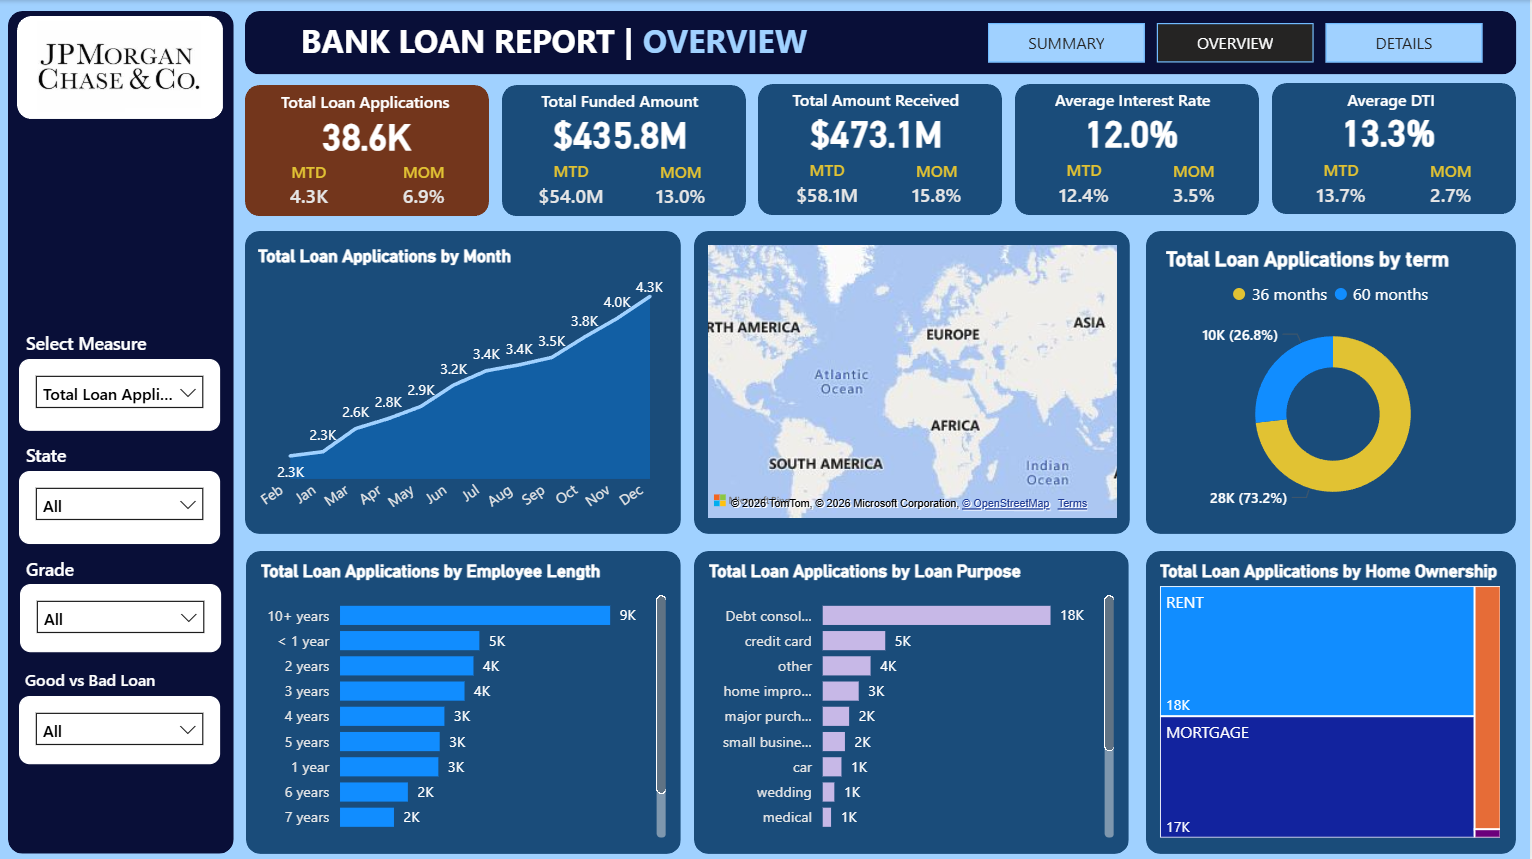

Layout of this report page (visuals, bound fields, positions):
{"tool":"powerbi","page":{"name":"OVERVIEW","canvas":[1280,720],"ordinal":1},"visuals":[{"type":"shape","box":[8.1,9,188.5,703.8],"z":0},{"type":"shape","box":[1063.8,69.2,203.8,109.5],"z":0,"group":"g5"},{"type":"shape","box":[635.2,69.6,203.8,109.5],"z":0,"group":"g3"},{"type":"shape","box":[849.5,69.8,203.8,109.5],"z":0,"group":"g4"},{"type":"shape","box":[420.8,70.5,203.8,109.5],"z":0,"group":"g2"},{"type":"shape","box":[206.5,70.9,203.8,109.5],"z":0,"group":"g1"},{"type":"textbox","box":[1119.6,69,87.1,34.1],"z":1000,"group":"g5"},{"type":"textbox","box":[658.6,69.1,150,34.1],"z":1000,"group":"g3"},{"type":"textbox","box":[877.7,69.1,150,34],"z":1000,"group":"g4"},{"type":"textbox","box":[444.2,70,150,34.1],"z":1000,"group":"g2"},{"type":"textbox","box":[231.6,70.9,154.4,28.7],"z":1000,"group":"g1"},{"type":"textbox","box":[18.2,365.3,55.9,31.8],"z":1000},{"type":"shape","box":[206.5,9,1062,53],"z":2000},{"type":"card","fields":{"Values":["Bank_Data.Total Amount Recieved"]},"box":[671.9,89.2,123.9,42.2],"z":2000,"group":"g3"},{"type":"card","fields":{"Values":["Bank_Data.Total Loan Applications"]},"box":[260.4,89.8,96.1,44.9],"z":2000,"group":"g1"},{"type":"card","fields":{"Values":["Bank_Data.Avg DTI"]},"box":[1105.5,89.9,110.4,38.6],"z":2000,"group":"g5"},{"type":"card","fields":{"Values":["Bank_Data.Total Funded Amount"]},"box":[457.5,90.1,123.9,42.2],"z":2000,"group":"g2"},{"type":"card","fields":{"Values":["Bank_Data.Avg interest rate"]},"box":[891.2,90.4,110.4,38.6],"z":2000,"group":"g4"},{"type":"shape","box":[16.2,13.5,172.4,86.2],"z":3000},{"type":"card","title":"MTD","fields":{"Values":["Bank_Data.MTD DTI"]},"box":[1089,132.4,65.4,46.2],"z":3000,"group":"g5"},{"type":"card","title":"MTD","fields":{"Values":["Bank_Data.MTD Total Amount Recieved"]},"box":[660.4,132.7,65.4,46.2],"z":3000,"group":"g3"},{"type":"card","title":"MTD","fields":{"Values":["Bank_Data.MTD avg interest"]},"box":[874.7,133,65.4,46.2],"z":3000,"group":"g4"},{"type":"card","title":"MTD","fields":{"Values":["Bank_Data.MTD Total Funded Amount"]},"box":[446,133.6,65.4,46.2],"z":3000,"group":"g2"},{"type":"card","title":"MTD","fields":{"Values":["Bank_Data.MTD Loan Application"]},"box":[231.6,134.6,56.6,45.8],"z":3000,"group":"g1"},{"type":"textbox","box":[243.3,9.9,442.6,52.1],"z":4000},{"type":"card","title":"MOM","fields":{"Values":["Bank_Data.MOM DTI"]},"box":[1185,133,56.6,45.8],"z":4000,"group":"g5"},{"type":"card","title":"MOM","fields":{"Values":["Bank_Data.MOM Recieved Amount amount"]},"box":[756.4,133.3,56.6,45.8],"z":4000,"group":"g3"},{"type":"card","title":"MOM","fields":{"Values":["Bank_Data.MOM interest rate"]},"box":[970.7,133.5,56.6,45.8],"z":4000,"group":"g4"},{"type":"card","title":"MOM","fields":{"Values":["Bank_Data.MOM funded amount"]},"box":[542,134.2,56.6,45.8],"z":4000,"group":"g2"},{"type":"card","title":"MOM","fields":{"Values":["Bank_Data.MOM Loan Application"]},"box":[327.7,134.6,56.6,45.8],"z":4000,"group":"g1"},{"type":"group","id":"g1","title":"Group 1","box":[206.5,70.9,203.8,109.5],"z":5000},{"type":"group","id":"g2","title":"Group 1","box":[420.8,70,203.8,110.4],"z":6000},{"type":"group","id":"g3","title":"Group 1","box":[635.2,69.1,203.8,110.4],"z":7000},{"type":"group","id":"g4","title":"Group 1","box":[849.5,69.1,203.8,110.4],"z":8000},{"type":"group","id":"g5","title":"Group 1","box":[1063.8,69,203.8,109.8],"z":9000},{"type":"slicer","fields":{"Values":["Bank_Data.address_state"]},"box":[18,393.2,167.9,61],"z":10000},{"type":"slicer","fields":{"Values":["Bank_Data.grade"]},"box":[18.2,487.6,167.6,57.1],"z":11000},{"type":"textbox","box":[18.2,460.6,72.9,31.8],"z":12000},{"type":"slicer","fields":{"Values":["Bank_Data.Good vs Bad Loans"]},"box":[17.6,581.2,167.6,57.1],"z":13000},{"type":"textbox","box":[18,553.9,139.2,32.3],"z":14000},{"type":"shape","box":[206.3,192.9,364.2,253.1],"z":15000},{"type":"areaChart","fields":{"Y":["Bank_Data.Total Loan Applications"],"Category":["Date Table.Month 3"]},"box":[212.2,205.5,348.3,240.6],"z":16000},{"type":"slicer","fields":{"Values":["Select Measure.Select Measure"]},"box":[18,299.9,167.9,60.1],"z":17000},{"type":"textbox","box":[18.1,271.9,124.4,40],"z":18000},{"type":"shape","box":[581.3,192.9,364.2,253.1],"z":19000},{"type":"shape","box":[958.9,192.9,309,253.1],"z":20000},{"type":"filledMap","fields":{"Category":["Bank_Data.address_state"]},"box":[588,199.6,351.6,238.1],"z":21000},{"type":"donutChart","fields":{"Y":["Bank_Data.Total Loan Applications"],"Category":["Bank_Data.term"]},"box":[970.6,206.3,289,231.4],"z":22000},{"type":"shape","box":[207.1,460.2,363.3,253.1],"z":23000},{"type":"shape","box":[581.3,460.2,363.3,253.1],"z":24000},{"type":"shape","box":[958.9,460.2,309,253.1],"z":25000},{"type":"barChart","fields":{"Y":["Bank_Data.Total Loan Applications"],"Category":["Bank_Data.emp_length"]},"box":[214.8,468.4,348.5,236.3],"z":26000},{"type":"barChart","fields":{"Y":["Bank_Data.Total Loan Applications"],"Category":["Bank_Data.purpose"]},"box":[589.1,468.4,348.5,236.3],"z":27000},{"type":"treemap","fields":{"Values":["Bank_Data.Total Loan Applications"],"Group":["Bank_Data.home_ownership"]},"box":[966,468.6,294.5,236.1],"z":28000},{"type":"image","box":[25.1,18,151.7,76.3],"z":29000},{"type":"pageNavigator","box":[826.8,18.9,414.8,33.2],"z":30000}]}

Visuals, with their boxes in screenshot pixels (x1, y1, x2, y2), scaled from the page's 1280x720 canvas onto the 1532x859 screenshot:
shape: bbox(10, 11, 235, 850)
shape: bbox(1273, 83, 1517, 213)
shape: bbox(760, 83, 1004, 214)
shape: bbox(1017, 83, 1261, 214)
shape: bbox(504, 84, 748, 215)
shape: bbox(247, 85, 491, 215)
textbox: bbox(1340, 82, 1444, 123)
textbox: bbox(788, 82, 968, 123)
textbox: bbox(1050, 82, 1230, 123)
textbox: bbox(532, 84, 711, 124)
textbox: bbox(277, 85, 462, 119)
textbox: bbox(22, 436, 89, 474)
shape: bbox(247, 11, 1518, 74)
card - Bank_Data.Total Amount Recieved: bbox(804, 106, 952, 157)
card - Bank_Data.Total Loan Applications: bbox(312, 107, 427, 161)
card - Bank_Data.Avg DTI: bbox(1323, 107, 1455, 153)
card - Bank_Data.Total Funded Amount: bbox(548, 107, 696, 158)
card - Bank_Data.Avg interest rate: bbox(1067, 108, 1199, 154)
shape: bbox(19, 16, 226, 119)
"MTD" card: bbox(1303, 158, 1382, 213)
"MTD" card: bbox(790, 158, 869, 213)
"MTD" card: bbox(1047, 159, 1125, 214)
"MTD" card: bbox(534, 159, 612, 215)
"MTD" card: bbox(277, 161, 345, 215)
textbox: bbox(291, 12, 821, 74)
"MOM" card: bbox(1418, 159, 1486, 213)
"MOM" card: bbox(905, 159, 973, 214)
"MOM" card: bbox(1162, 159, 1230, 214)
"MOM" card: bbox(649, 160, 716, 215)
"MOM" card: bbox(392, 161, 460, 215)
"Group 1" group: bbox(247, 85, 491, 215)
"Group 1" group: bbox(504, 84, 748, 215)
"Group 1" group: bbox(760, 82, 1004, 214)
"Group 1" group: bbox(1017, 82, 1261, 214)
"Group 1" group: bbox(1273, 82, 1517, 213)
slicer - Bank_Data.address_state: bbox(22, 469, 222, 542)
slicer - Bank_Data.grade: bbox(22, 582, 222, 650)
textbox: bbox(22, 550, 109, 587)
slicer - Bank_Data.Good vs Bad Loans: bbox(21, 693, 222, 762)
textbox: bbox(22, 661, 188, 699)
shape: bbox(247, 230, 683, 532)
areaChart - Bank_Data.Total Loan Applications x Date Table.Month 3: bbox(254, 245, 671, 532)
slicer - Select Measure.Select Measure: bbox(22, 358, 222, 430)
textbox: bbox(22, 324, 171, 372)
shape: bbox(696, 230, 1132, 532)
shape: bbox(1148, 230, 1518, 532)
filledMap - Bank_Data.address_state: bbox(704, 238, 1125, 522)
donutChart - Bank_Data.Total Loan Applications x Bank_Data.term: bbox(1162, 246, 1508, 522)
shape: bbox(248, 549, 683, 851)
shape: bbox(696, 549, 1131, 851)
shape: bbox(1148, 549, 1518, 851)
barChart - Bank_Data.Total Loan Applications x Bank_Data.emp_length: bbox(257, 559, 674, 841)
barChart - Bank_Data.Total Loan Applications x Bank_Data.purpose: bbox(705, 559, 1122, 841)
treemap - Bank_Data.Total Loan Applications x Bank_Data.home_ownership: bbox(1156, 559, 1509, 841)
image: bbox(30, 21, 212, 113)
pageNavigator: bbox(990, 23, 1486, 62)
